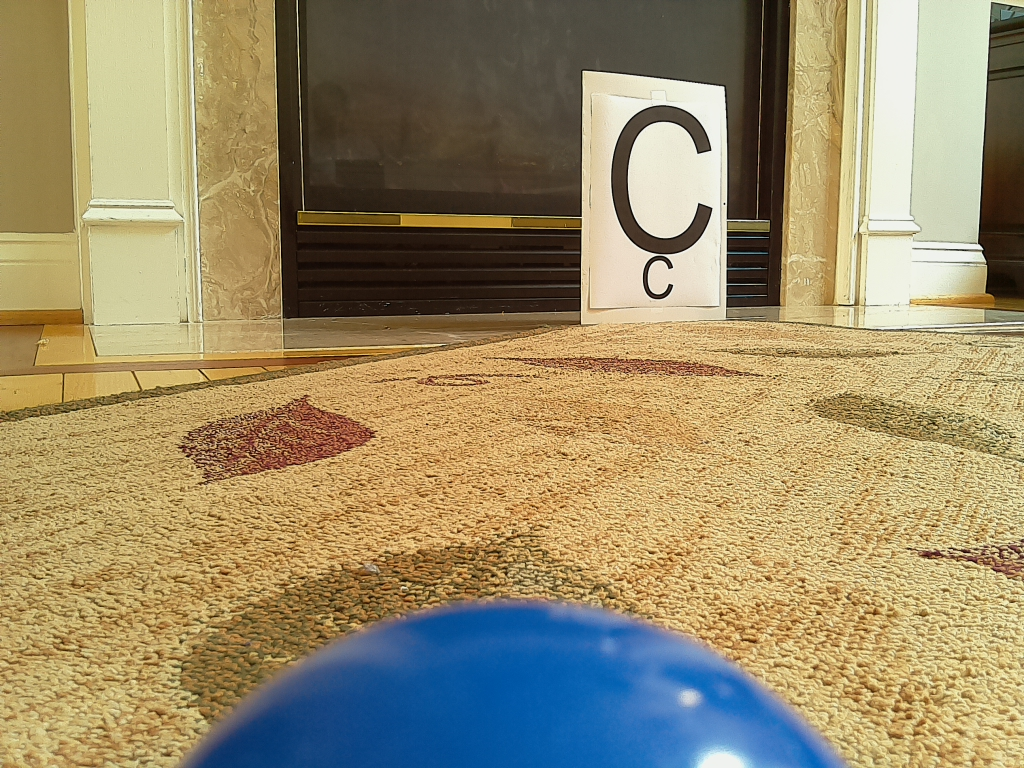letter: (609, 106, 711, 252)
